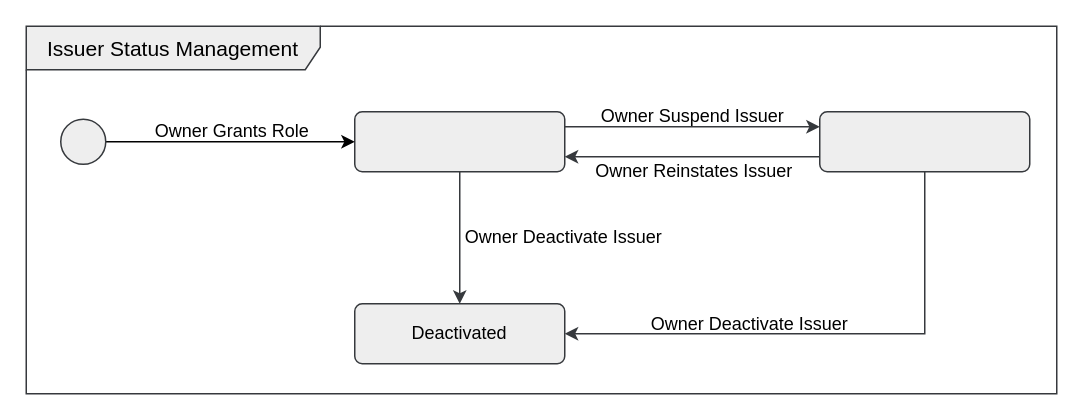
The diagram is 1083 pixels wide and 420 high, and some of its shapes have lost their labels. The shapes that lost their labels are listed below. From the top down, each one's centre as x and y in pixels, then its label:
At [459,141]: "Active".
At [924,141]: "Suspended".
